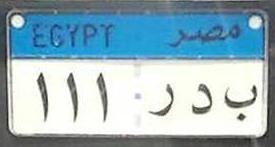1: (67, 72, 78, 121), (98, 72, 109, 120), (37, 73, 47, 121)
baa: (222, 79, 259, 123)
daal: (190, 82, 217, 116)
raa: (147, 83, 175, 118)
